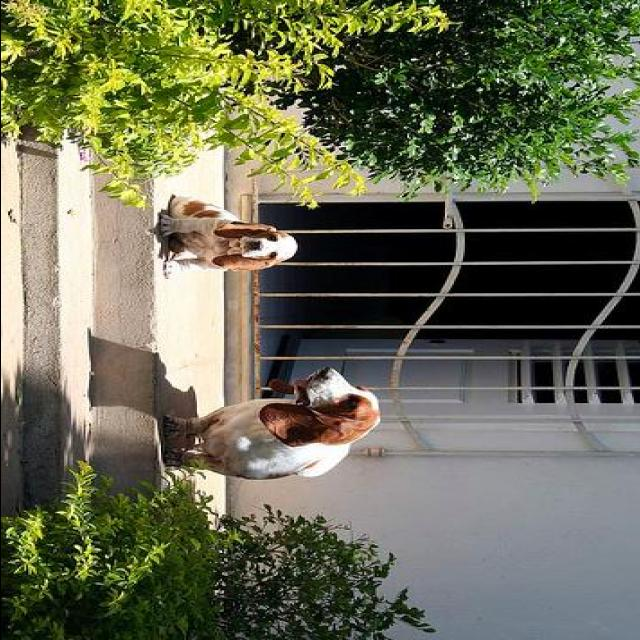basset: (160, 367, 381, 479), (152, 192, 300, 279)
